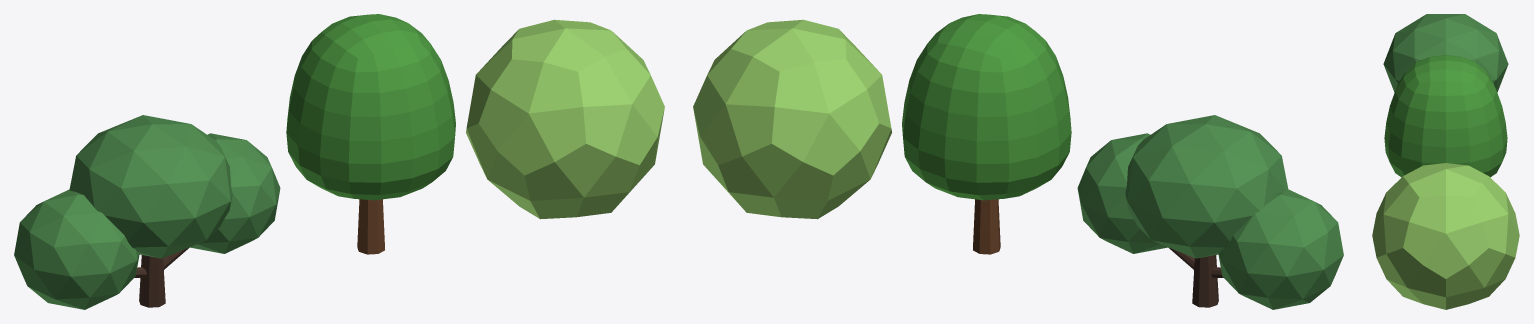
The model's file is Bushes.fbx.
The picture shows the model from 3 angles, left to right: view 1: azimuth 30°, elevation 25°; view 2: azimuth 150°, elevation 25°; view 3: azimuth 270°, elevation 25°; orthographic projection. The views are drawn at different scales.
Visible parts, largest first — view 1: Bush_1, Bush_3, Bush_2; view 2: Bush_1, Bush_3, Bush_2; view 3: Bush_3, Bush_2, Bush_1.
Part boxes in pixels (x1,y1,x2,y2): Bush_1: (14, 115, 280, 309); Bush_3: (466, 19, 664, 219); Bush_2: (286, 14, 455, 254); Bush_1: (1077, 115, 1343, 309); Bush_3: (693, 19, 891, 219); Bush_2: (902, 14, 1071, 254); Bush_3: (1372, 163, 1519, 309); Bush_2: (1384, 55, 1507, 177); Bush_1: (1383, 14, 1508, 92).
Size of the model in its own units: 377 by 130 by 105.
